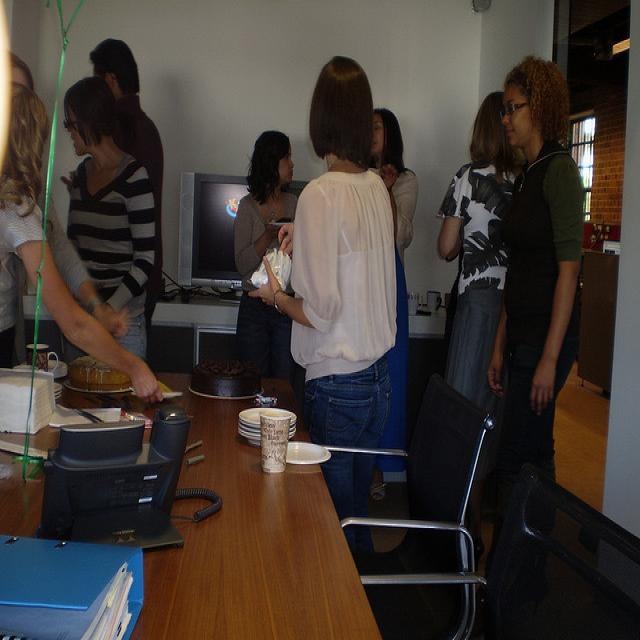chair: (326, 370, 495, 640), (470, 461, 640, 640)
dining table: (0, 357, 379, 633)
